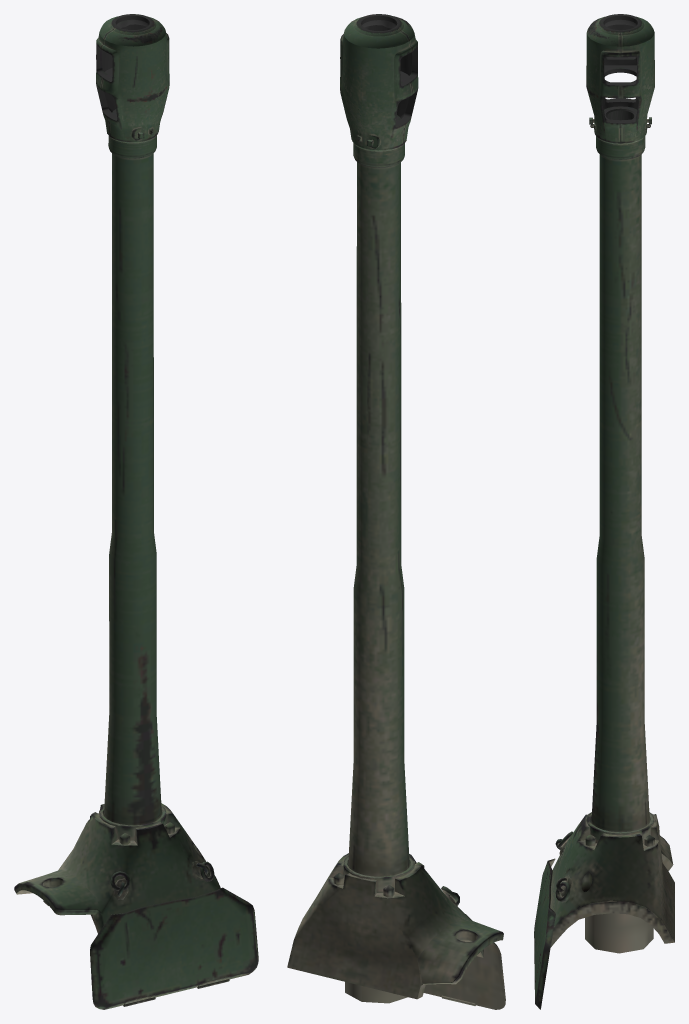
The model's file is Gun_01.glb.
The picture shows the model from 3 angles, left to right: view 1: azimuth 30°, elevation 25°; view 2: azimuth 150°, elevation 25°; view 3: azimuth 270°, elevation 25°; orthographic projection. The views are drawn at different scales.
Parts seen in each view (by area): view 1: set_0_group_0; view 2: set_0_group_0; view 3: set_0_group_0.
Boxes of the visible parts, <box> form: set_0_group_0: <box>14,14,258,1009</box>; set_0_group_0: <box>287,14,505,1009</box>; set_0_group_0: <box>534,14,674,1009</box>.
Bounding box in the file's own units: 0.949 × 4.64 × 0.6232.
1 material, 1 textured.
